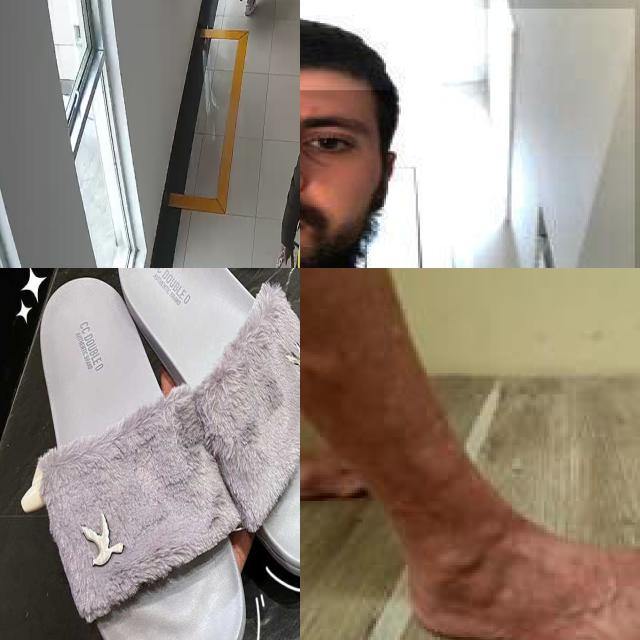Barefoots: (386, 508, 640, 640)
No_Glasses: (300, 94, 369, 177)
Sandals: (25, 268, 300, 640)
face_nomask: (300, 91, 379, 268)
head_nohelmet: (300, 13, 390, 90)
person: (300, 8, 637, 268)
